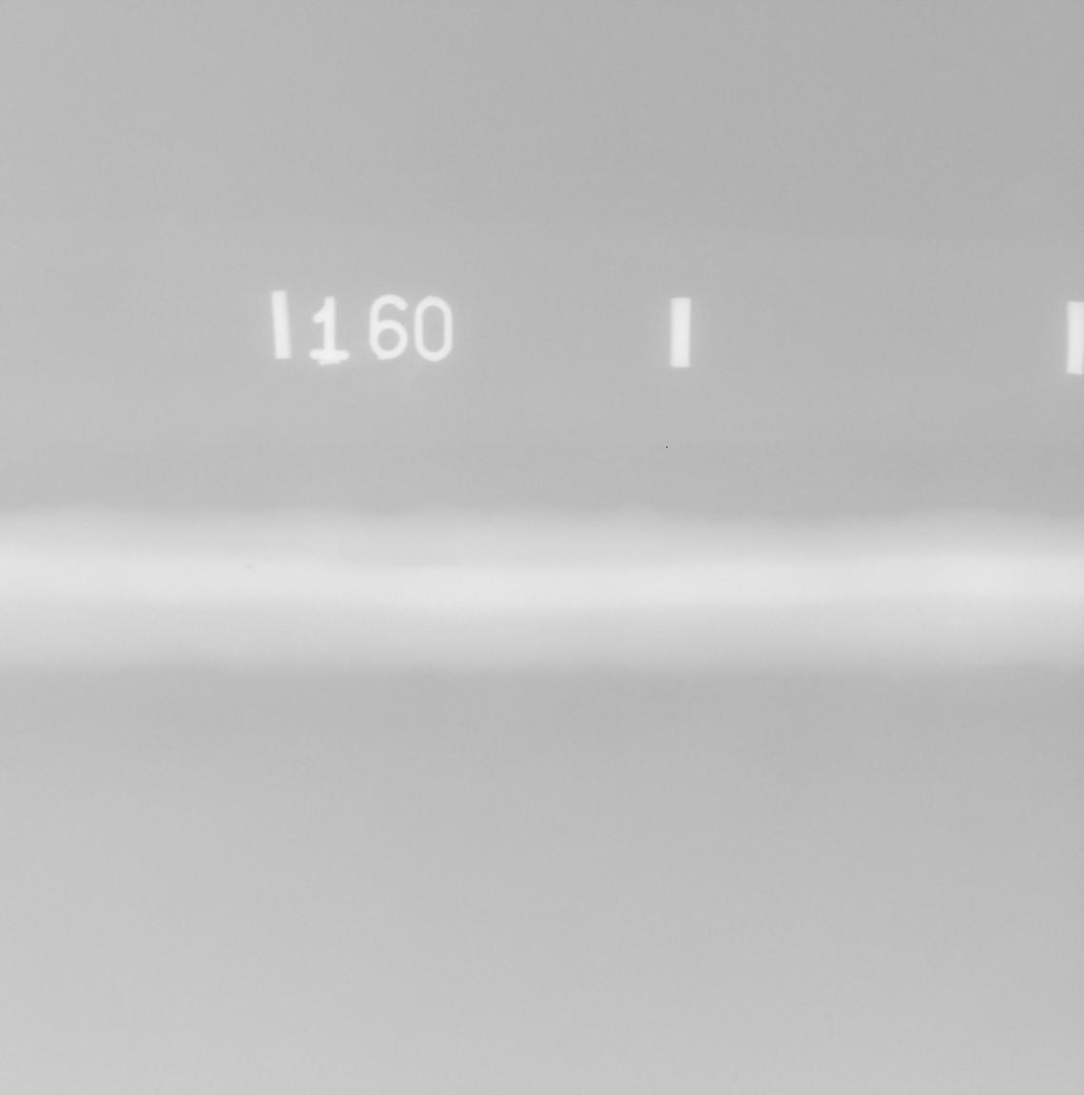Pore/Porosity: (244, 563, 259, 571), (263, 557, 272, 563), (202, 589, 212, 594), (517, 556, 523, 562)
